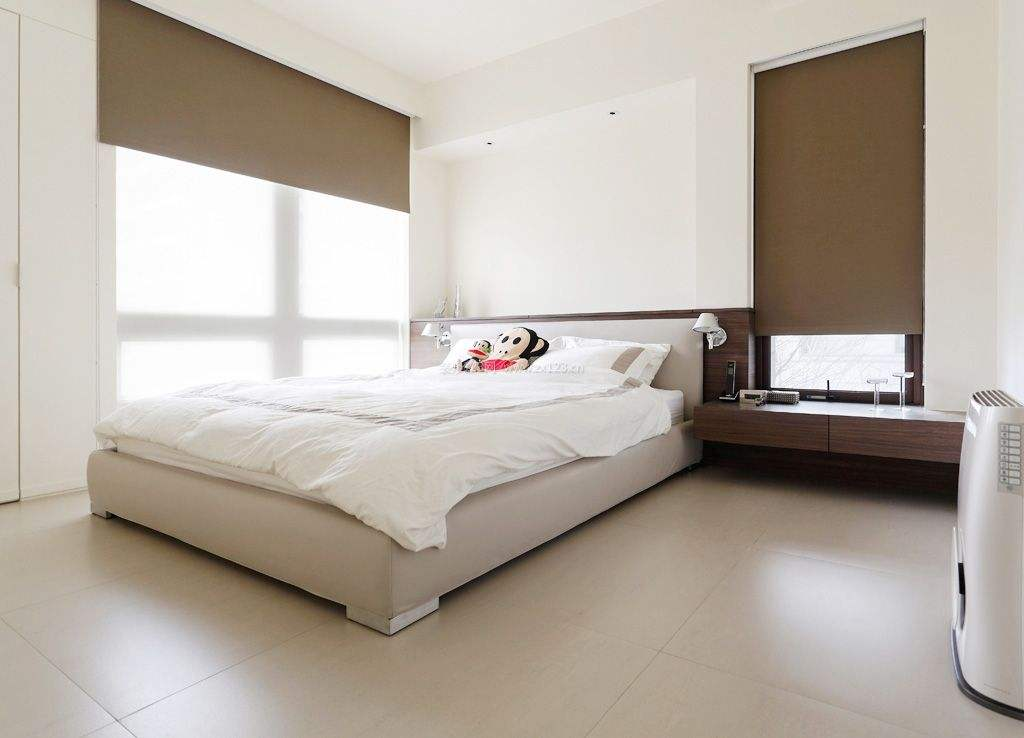床: (79, 362, 680, 622)
枕头: (445, 330, 660, 391)
灯: (691, 312, 732, 353), (421, 315, 452, 351), (601, 106, 619, 123)
